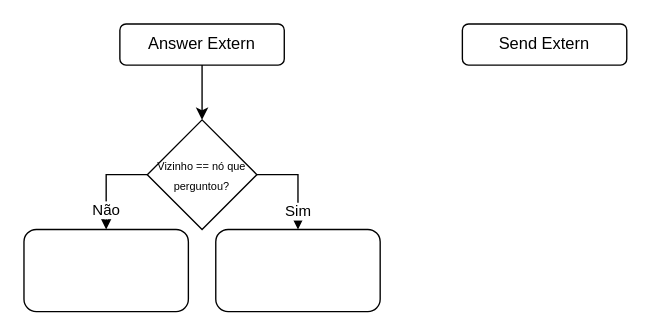
Some shapes in this 651 by 336 pixel diagram are drawn without their labels. Each missing label, with the box of its shape:
Enviar o id deste nó: (214, 228, 380, 312)
Enviar vizinho: (23, 228, 188, 312)
